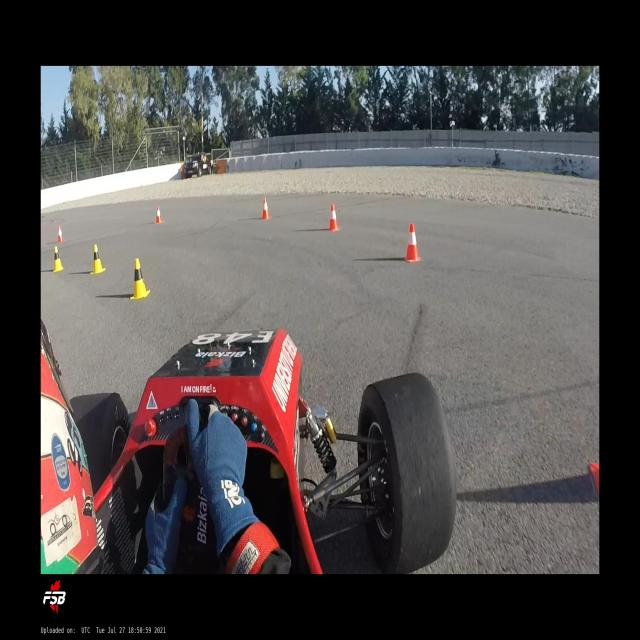orange_cone: (404, 222, 422, 262), (328, 204, 340, 232), (261, 197, 271, 220), (156, 205, 163, 225), (57, 226, 65, 243)
yellow_cone: (130, 258, 150, 300), (90, 244, 105, 275), (53, 246, 64, 273)
